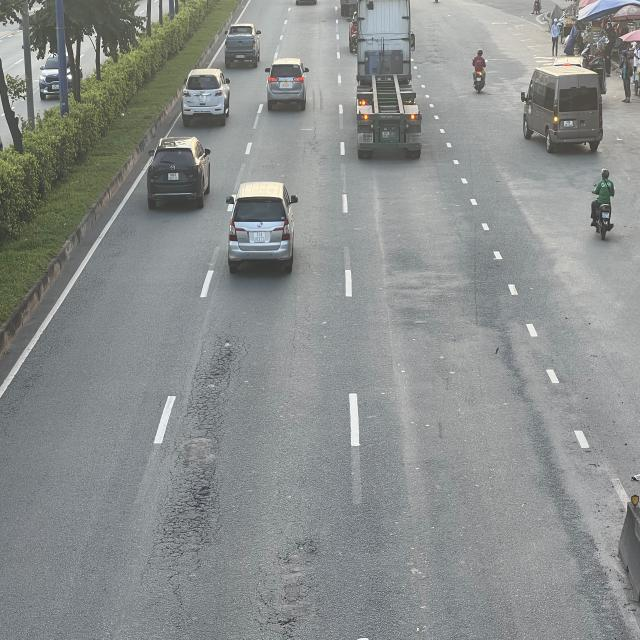car: (228, 183, 300, 273), (149, 138, 215, 210), (182, 66, 232, 125), (265, 58, 309, 110), (223, 24, 262, 68)
container: (350, 0, 420, 158)
van: (522, 60, 607, 150)
